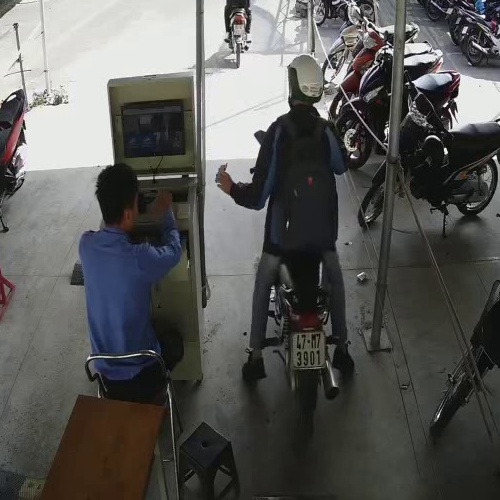number_plate: (291, 331, 329, 372)
